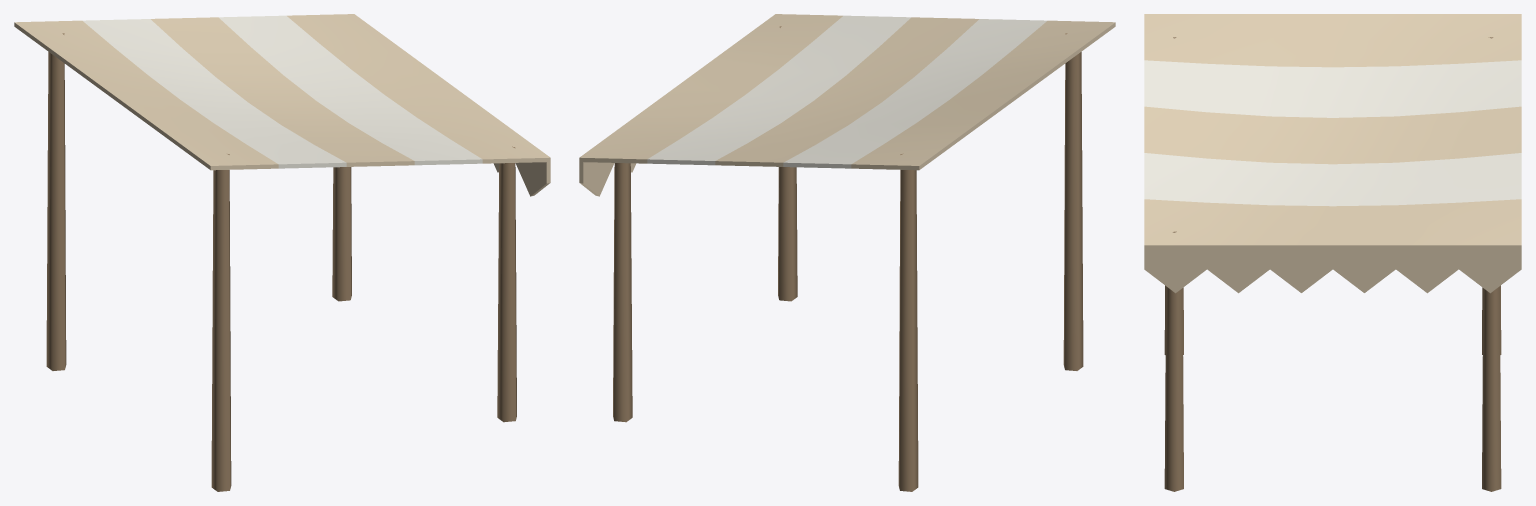
File: building.awning.glb
3 renders of one model, left to right at view 1: azimuth 30°, elevation 25°; view 2: azimuth 150°, elevation 25°; view 3: azimuth 270°, elevation 25°, orthographic. The views are drawn at different scales.
Parts seen in each view (by area): view 1: Paint, Bone, Wood; view 2: Paint, Bone, Wood; view 3: Paint, Bone, Wood.
Part boxes in pixels (x1,y1,x2,y2): Paint: (14,14,550,196); Bone: (83,15,482,168); Wood: (46,33,516,491); Paint: (579,14,1115,196); Bone: (647,15,1046,168); Wood: (613,26,1083,491); Paint: (1144,14,1521,293); Bone: (1144,60,1521,206); Wood: (1164,37,1501,491).
Size of the model in its own units: 1 by 0.955 by 1.
